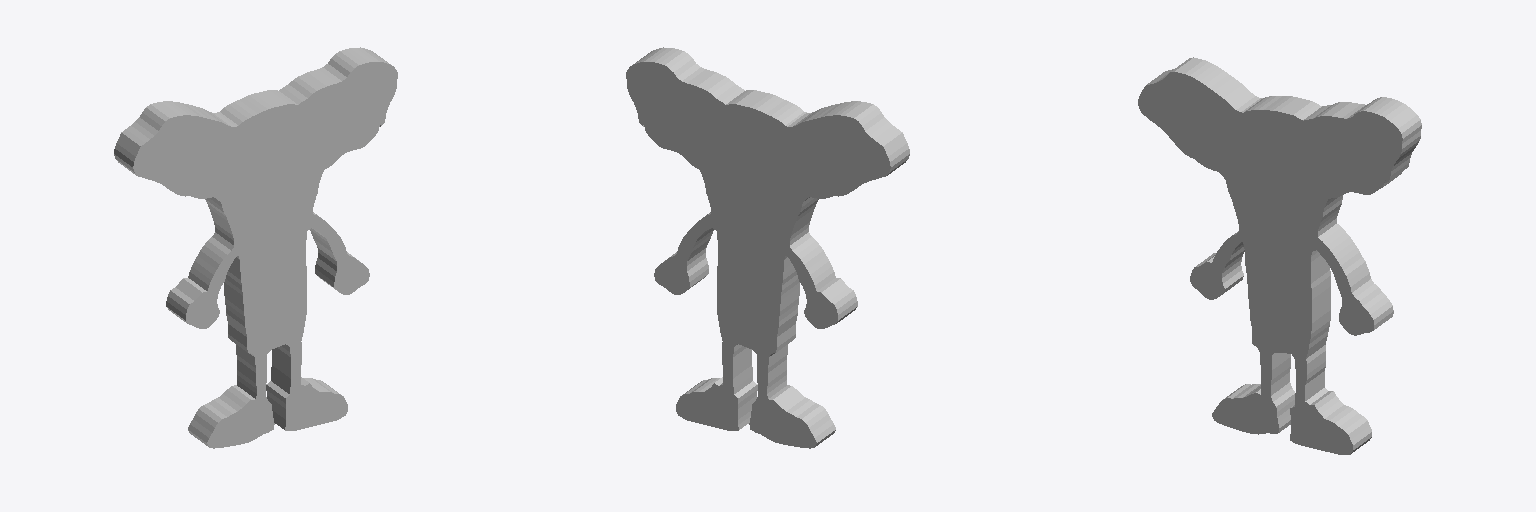
The model's file is elon.obj.
3 views of the same model, side by side, from view 1: azimuth 30°, elevation 25°; view 2: azimuth 150°, elevation 25°; view 3: azimuth 330°, elevation 25° (orthographic).
Bounding box in the file's own units: 1.58 × 2 × 0.2.